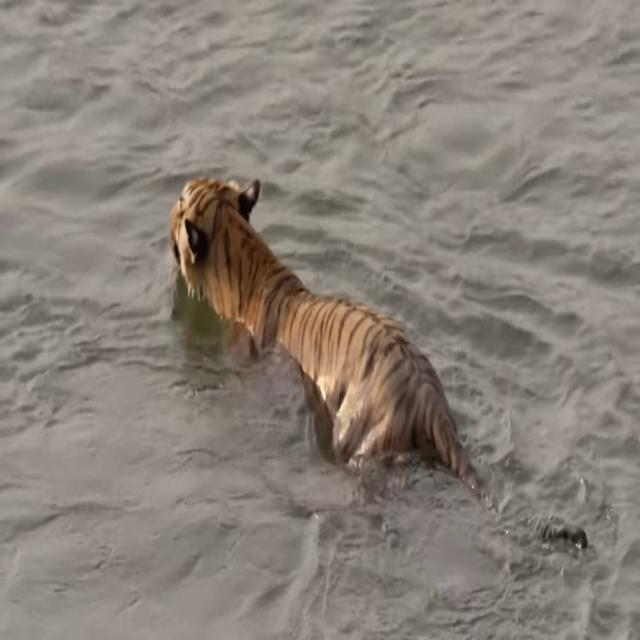tiger: (169, 176, 589, 556)
